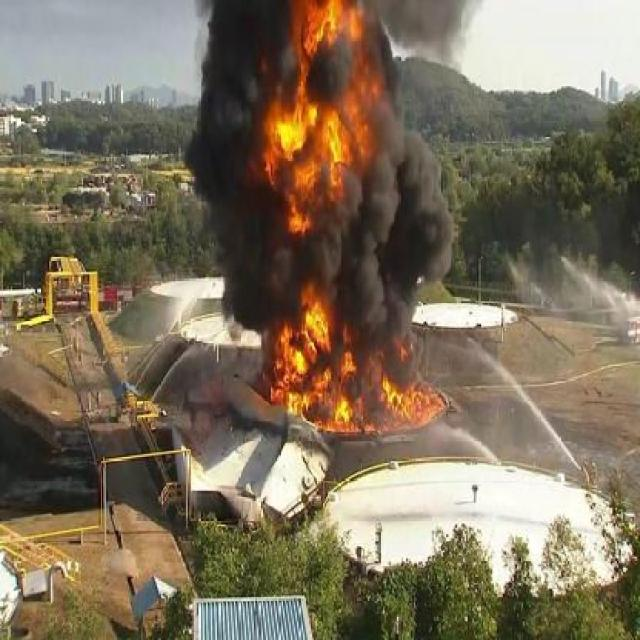Fire: (269, 16, 372, 219), (258, 296, 428, 416)
Smoke: (201, 189, 466, 316)
